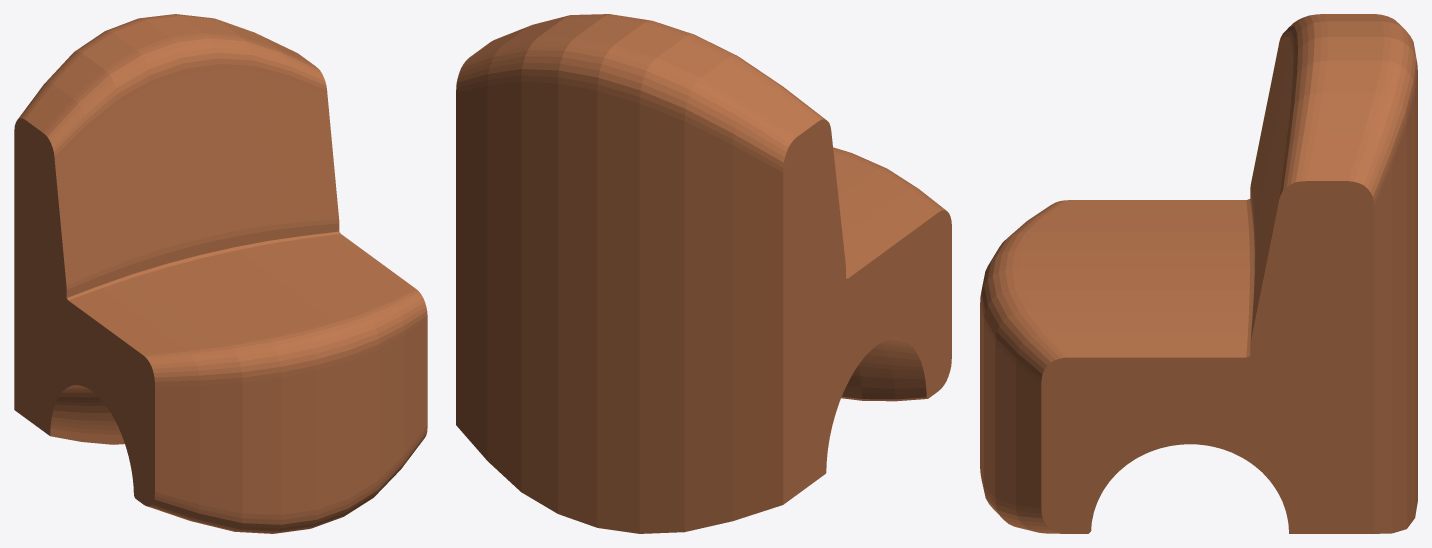
Rendered from low-chair.glb.
The picture shows the model from 3 angles, left to right: view 1: azimuth 30°, elevation 25°; view 2: azimuth 150°, elevation 25°; view 3: azimuth 270°, elevation 25°; orthographic projection. The views are drawn at different scales.
Bounding box in the file's own units: 1.22e-05 × 1.68e-05 × 1.43e-05.
